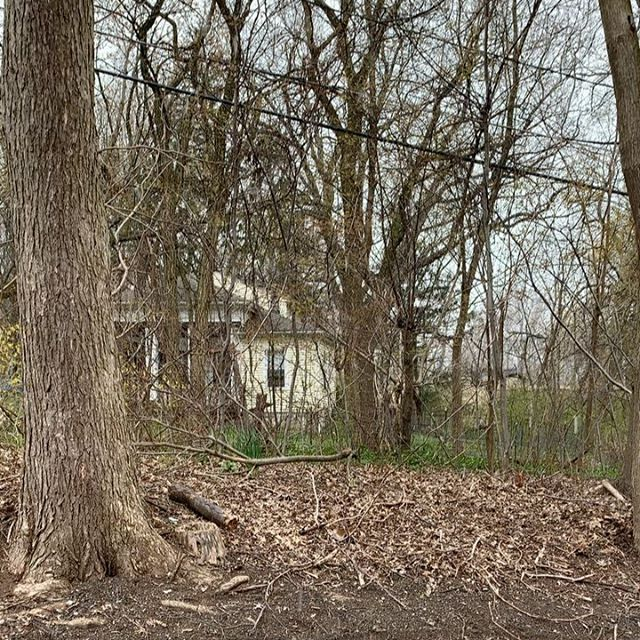building: (126, 286, 352, 413)
vegetation: (1, 1, 612, 522)
